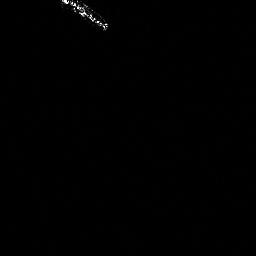ship: (62, 1, 107, 30)
